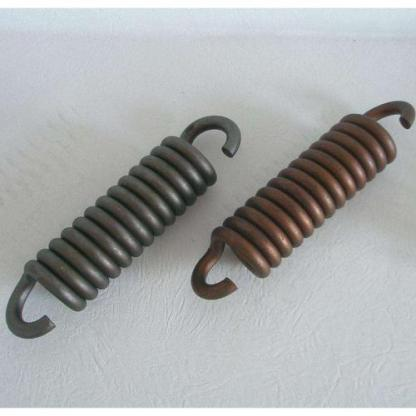FOD: (3, 114, 244, 342), (187, 98, 415, 304)
